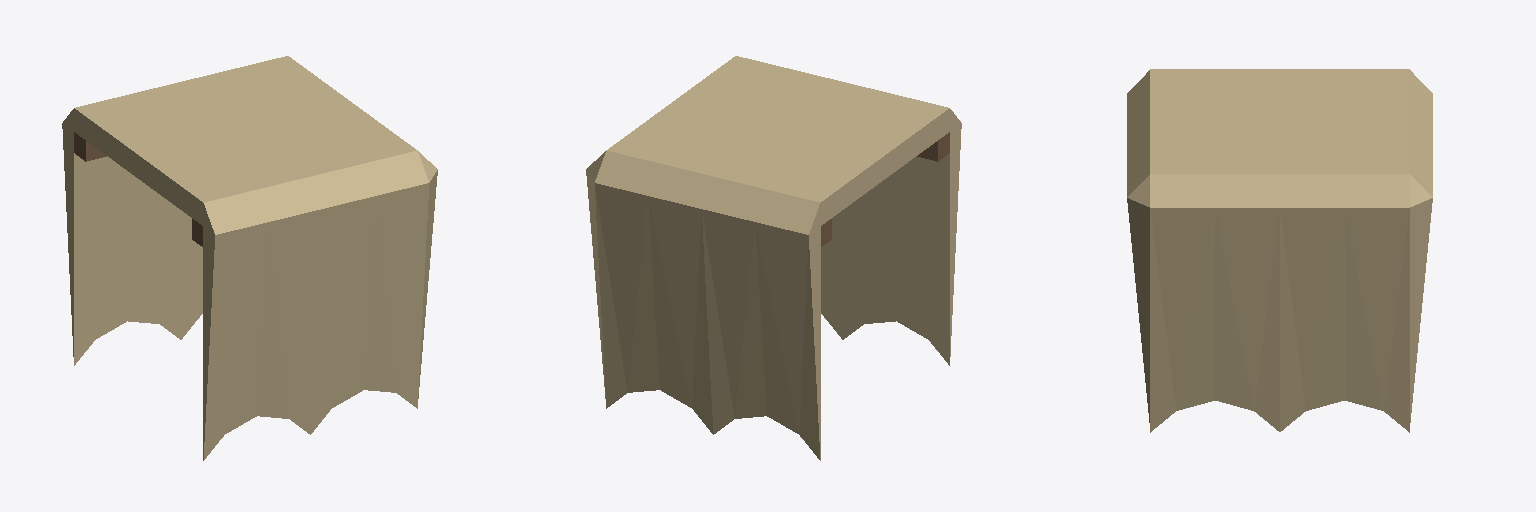
File: Canopy_Full.obj
3 views of the same model, side by side, from view 1: azimuth 30°, elevation 25°; view 2: azimuth 150°, elevation 25°; view 3: azimuth 270°, elevation 25° (orthographic).
Parts seen in each view (by area): view 1: object2, object1; view 2: object2, object1; view 3: object2.
Boxes of the visible parts, <box> form: object2: <box>62,56,437,460</box>; object1: <box>74,132,202,246</box>; object2: <box>586,56,961,460</box>; object1: <box>821,132,949,246</box>; object2: <box>1127,69,1432,432</box>.
Bounding box in the file's own units: 1.15 × 1.21 × 1.3.